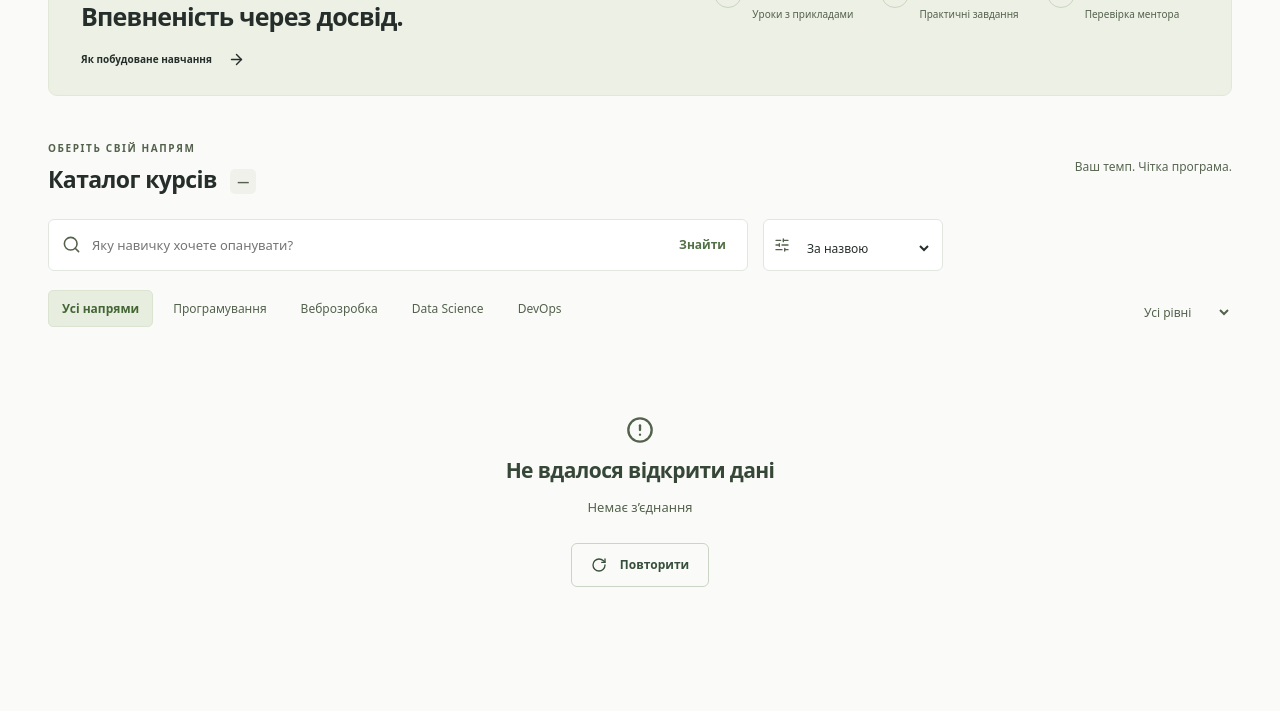
Scenario: Catalog filters › distinguishes an unavailable API from an empty catalog and permits retry
(page scrolled)
Expected: the message shows "Немає з’єднання", top-left (588, 498), bottom-right (692, 516)
Click the button "Повторити" at x=640, y=565, box top-left (571, 543), bottom-right (709, 587)
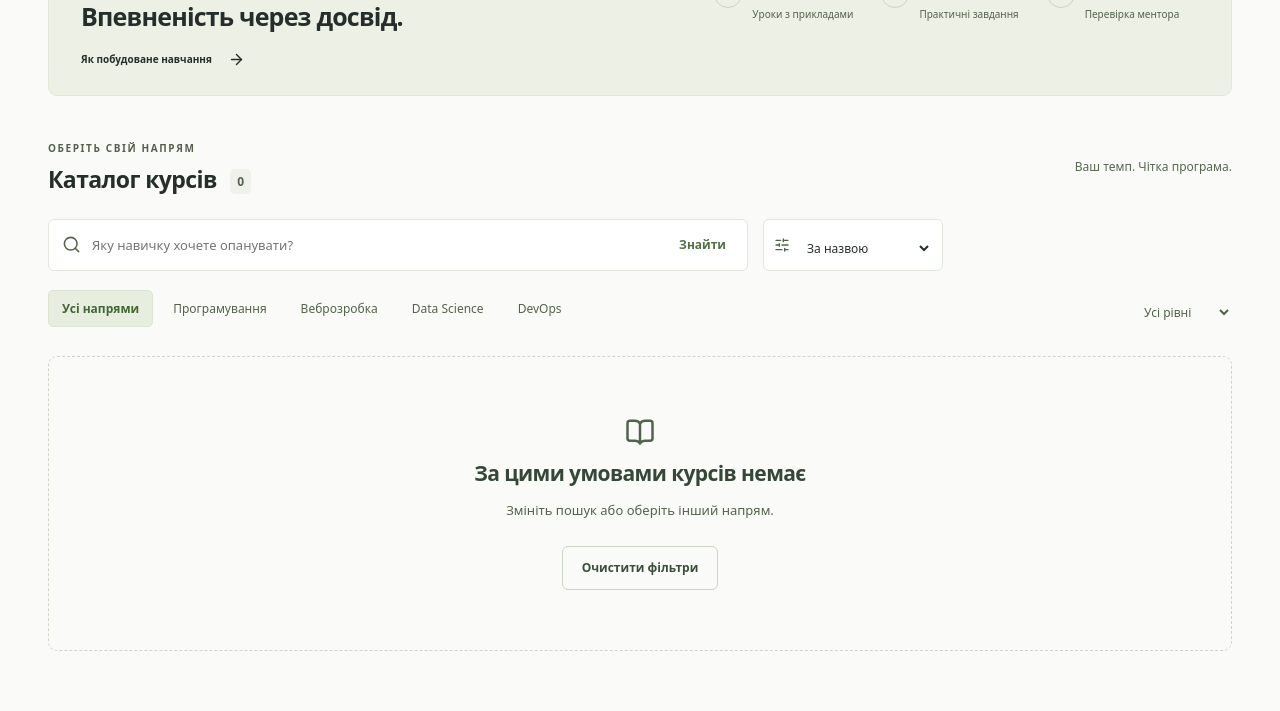
Expected: the heading "За цими умовами курсів немає" is shown, top-left (474, 459), bottom-right (806, 487)
